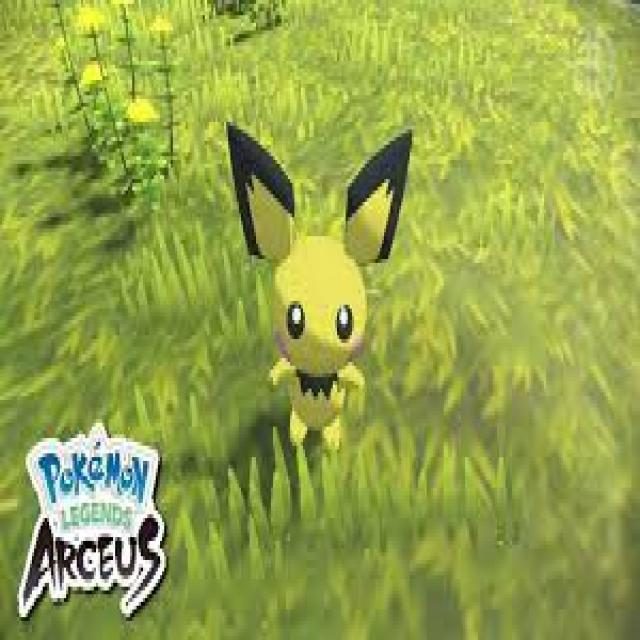pichu: (224, 112, 426, 484)
